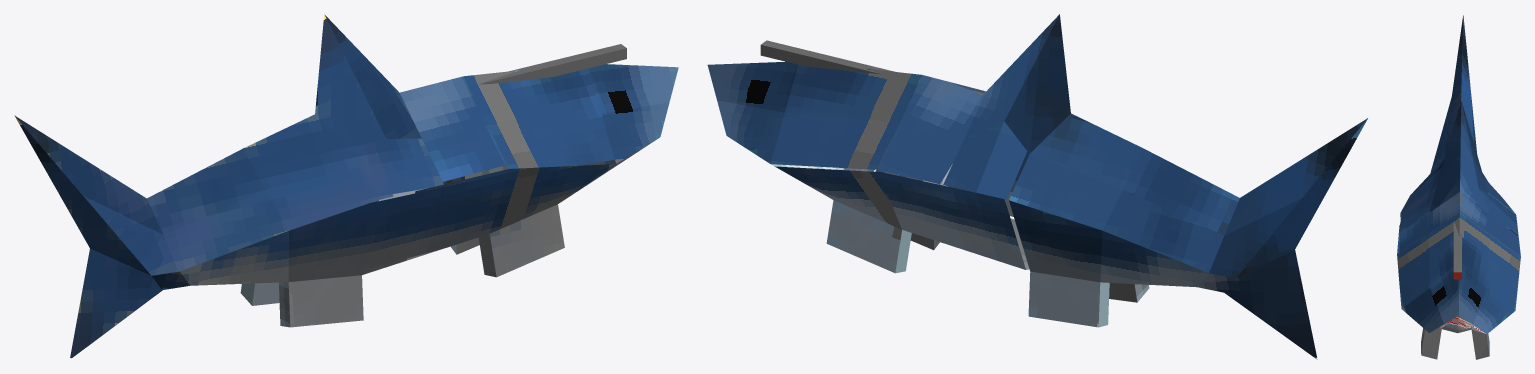
File: LaserShark.gltf
3 renders of one model, left to right at view 1: azimuth 30°, elevation 25°; view 2: azimuth 150°, elevation 25°; view 3: azimuth 270°, elevation 25°, orthographic. The views are drawn at different scales.
Parts seen in each view (by area): view 1: cuboid (×2); view 2: cuboid (×2); view 3: cuboid (×2).
Boxes of the visible parts, x1,y1,x2,y2 form: cuboid (×2): [14, 14, 678, 358]; cuboid (×2): [707, 14, 1367, 359]; cuboid (×2): [1397, 15, 1520, 359].
Size of the model in its own units: 2.01 by 0.8543 by 0.4687.
Materials: 2 (2 with a texture image).
